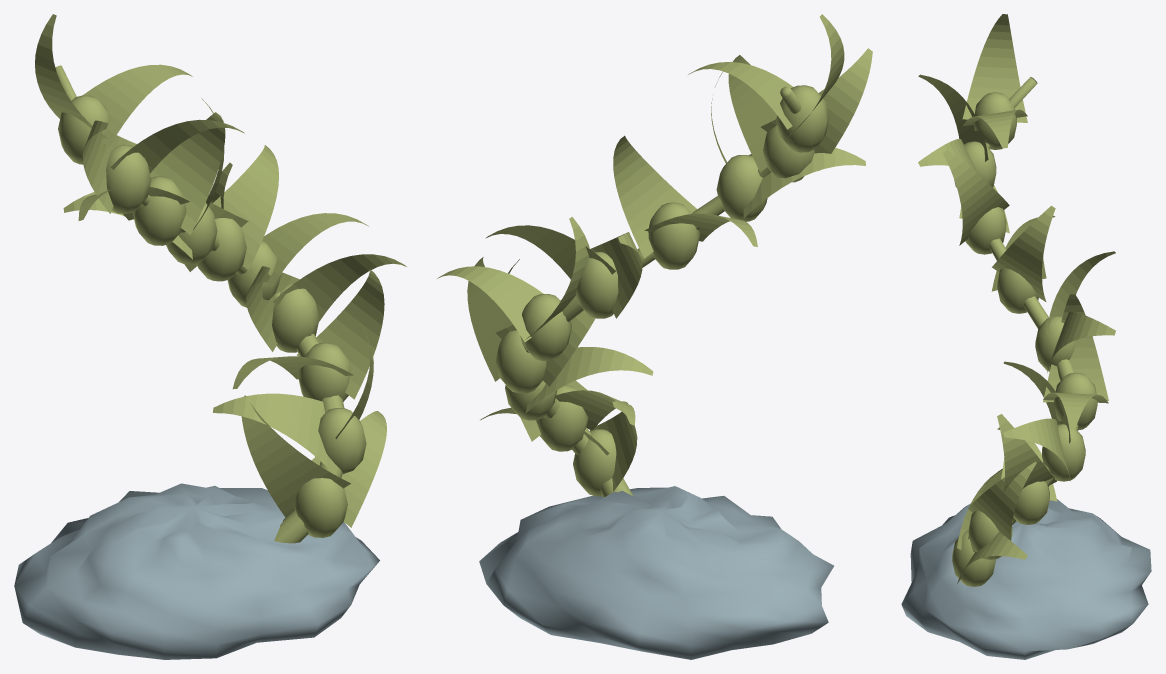
Rendered from underwater-reef-worlds-sargassum-107ab5cd__7039.glb.
3 views of the same model, side by side, from view 1: azimuth 30°, elevation 25°; view 2: azimuth 150°, elevation 25°; view 3: azimuth 270°, elevation 25° (orthographic). The views are drawn at different scales.
Parts seen in each view (by area): view 1: sargassum; view 2: sargassum; view 3: sargassum.
Boxes of the visible parts, <box> form: sargassum: <box>14,14,406,659</box>; sargassum: <box>437,14,872,659</box>; sargassum: <box>901,14,1151,659</box>.
Bounding box in the file's own units: 0.7034 × 1.15 × 0.4903.
